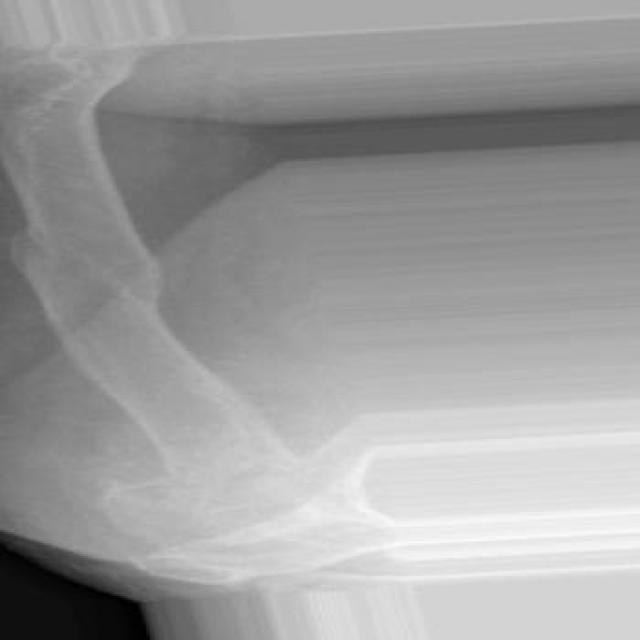Fracture: (0, 218, 188, 311)
